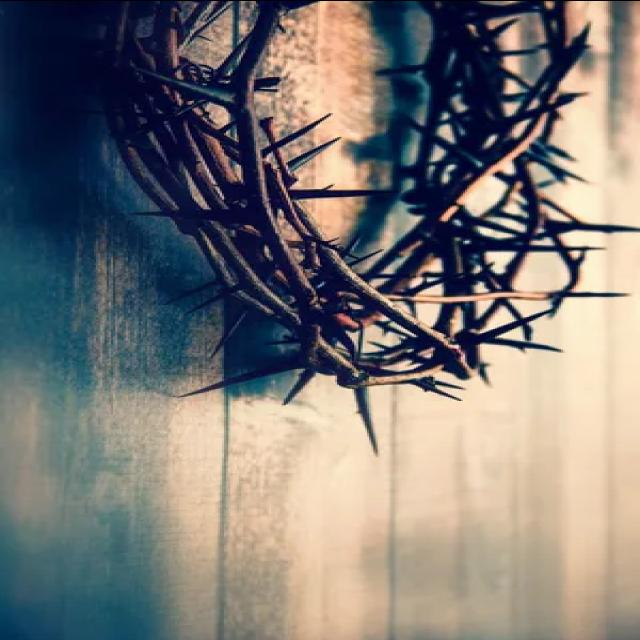crown: (102, 0, 620, 398)
